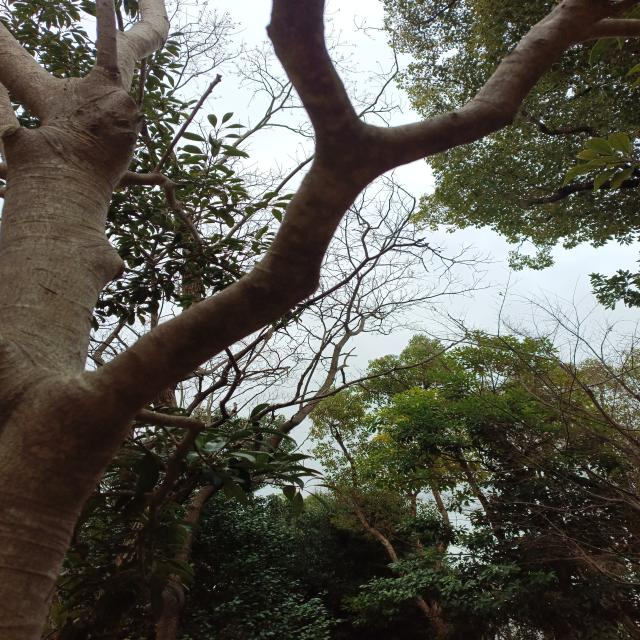Branch: (98, 121, 417, 414), (379, 0, 618, 163), (265, 0, 357, 129), (2, 23, 76, 122), (116, 1, 170, 88), (95, 0, 118, 77)
Twig: (119, 171, 203, 255), (134, 409, 205, 506), (154, 76, 220, 174), (93, 504, 157, 552), (209, 349, 241, 428), (199, 251, 243, 277), (138, 253, 198, 271), (589, 20, 640, 39), (91, 491, 148, 500)
